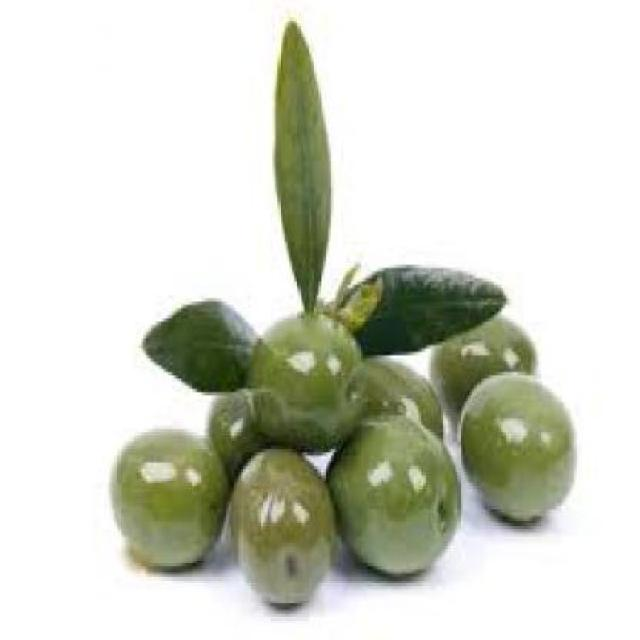BIODEGRADABLE: (328, 415, 460, 576), (275, 20, 331, 316), (461, 375, 574, 521), (111, 430, 229, 569), (231, 449, 335, 605), (252, 319, 366, 451), (356, 269, 505, 355), (142, 301, 255, 392), (432, 321, 535, 412), (364, 360, 442, 438), (209, 389, 261, 482), (321, 265, 382, 334)
